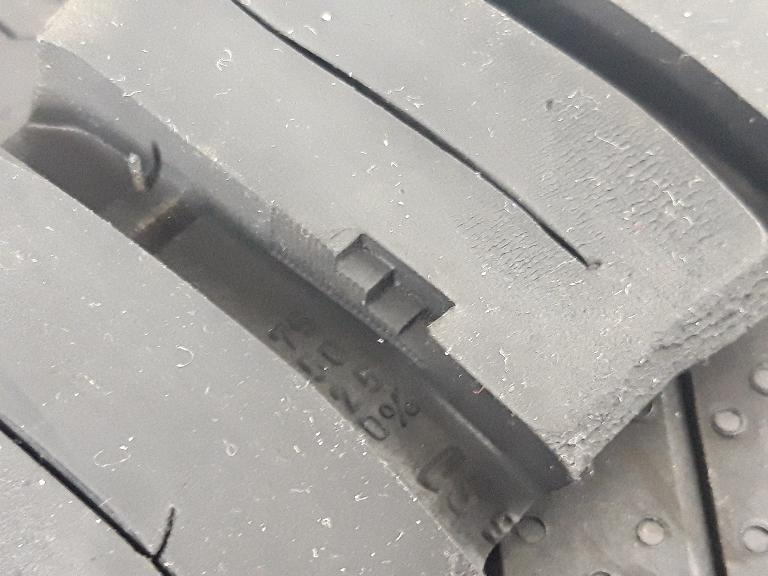temoin:75: (304, 221, 466, 380)
